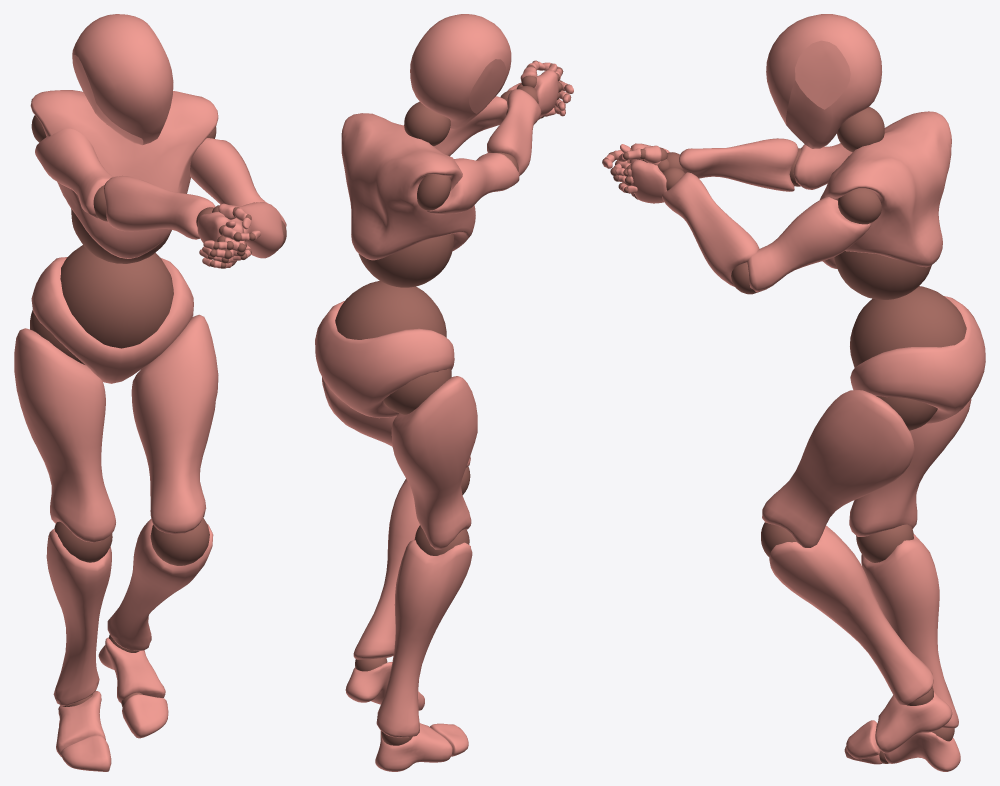
The model's file is char_2.glb.
3 renders of one model, left to right at view 1: azimuth 30°, elevation 25°; view 2: azimuth 150°, elevation 25°; view 3: azimuth 270°, elevation 25°, orthographic. The views are drawn at different scales.
Visible parts, largest first — view 1: Beta_Surface, Beta_Joints; view 2: Beta_Surface, Beta_Joints; view 3: Beta_Surface, Beta_Joints.
Part boxes in pixels (x1,y1,x2,y2): Beta_Surface: (14, 14, 286, 771); Beta_Joints: (30, 115, 286, 707); Beta_Surface: (315, 14, 573, 771); Beta_Joints: (335, 60, 571, 745); Beta_Surface: (603, 14, 985, 771); Beta_Joints: (602, 107, 966, 763).
Bounding box in the file's own units: 0.432 × 1.73 × 0.8104.
